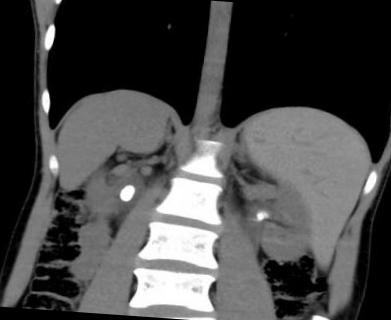Tas_Var: (112, 182, 138, 205), (254, 212, 264, 222)
